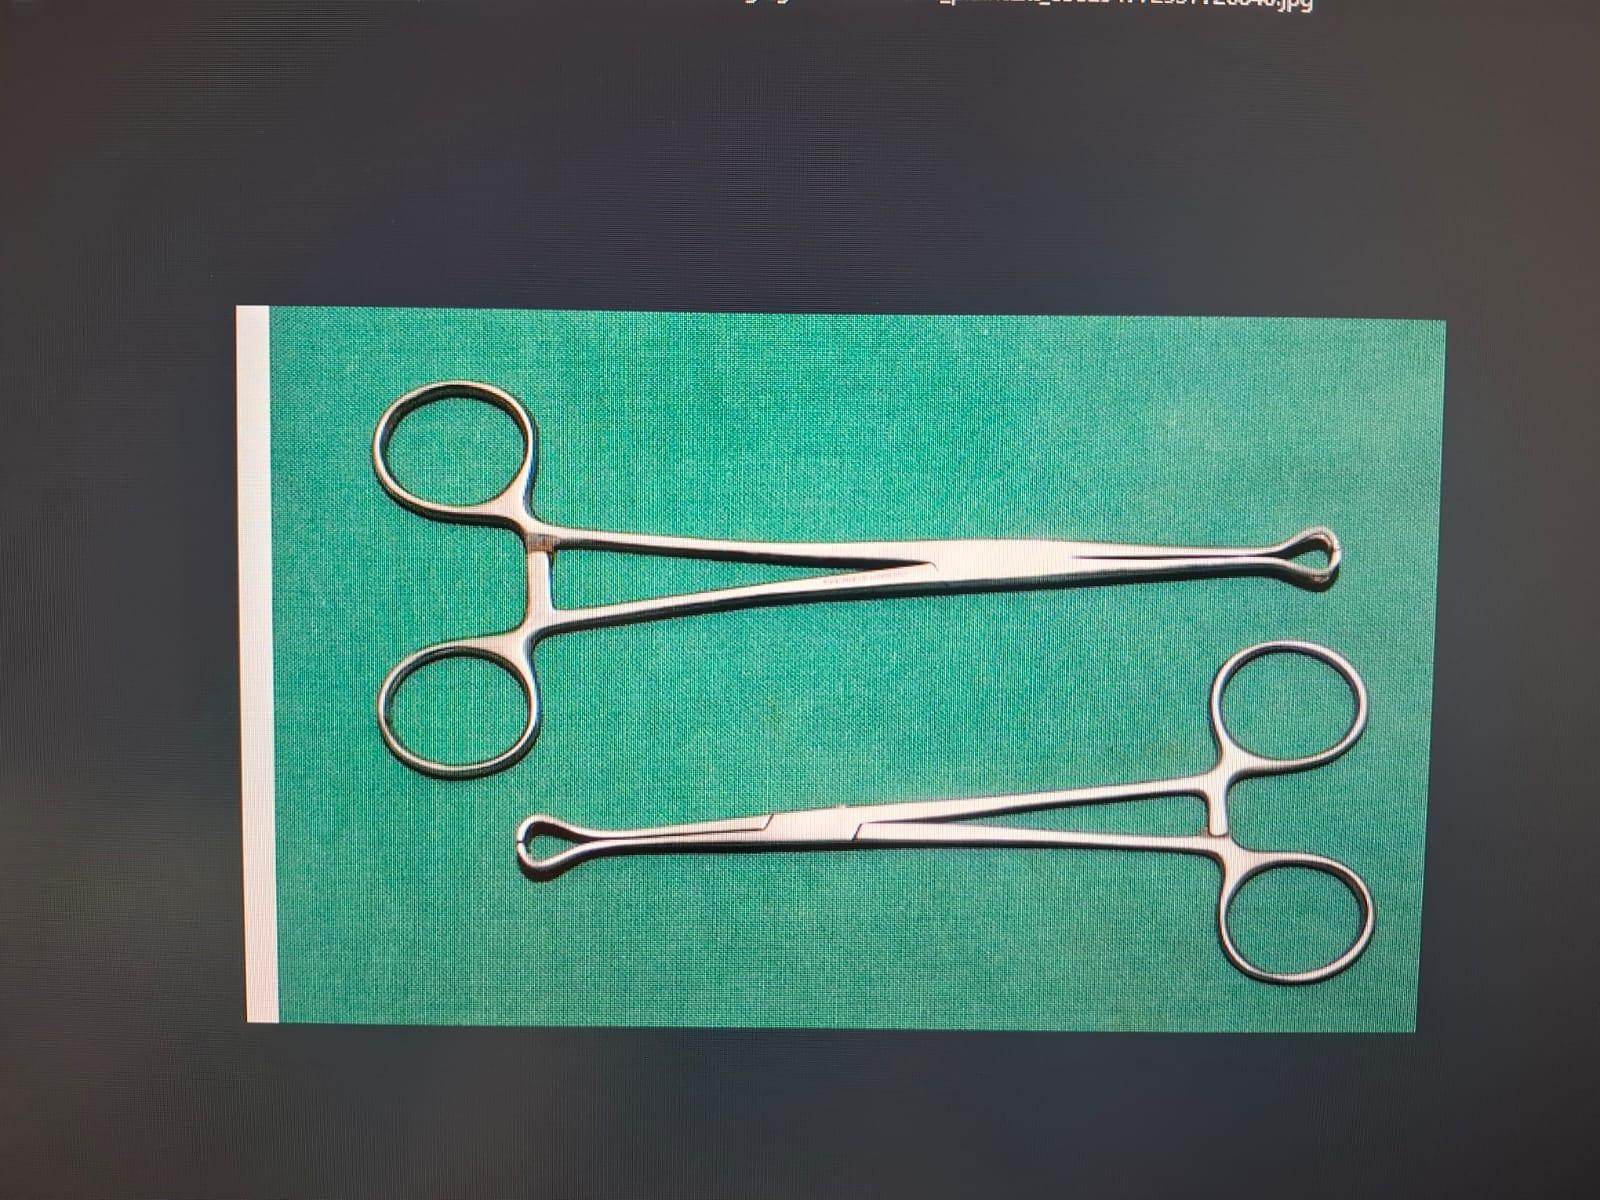Babcock Forceps: (368, 358, 1351, 782), (504, 634, 1403, 1016)
